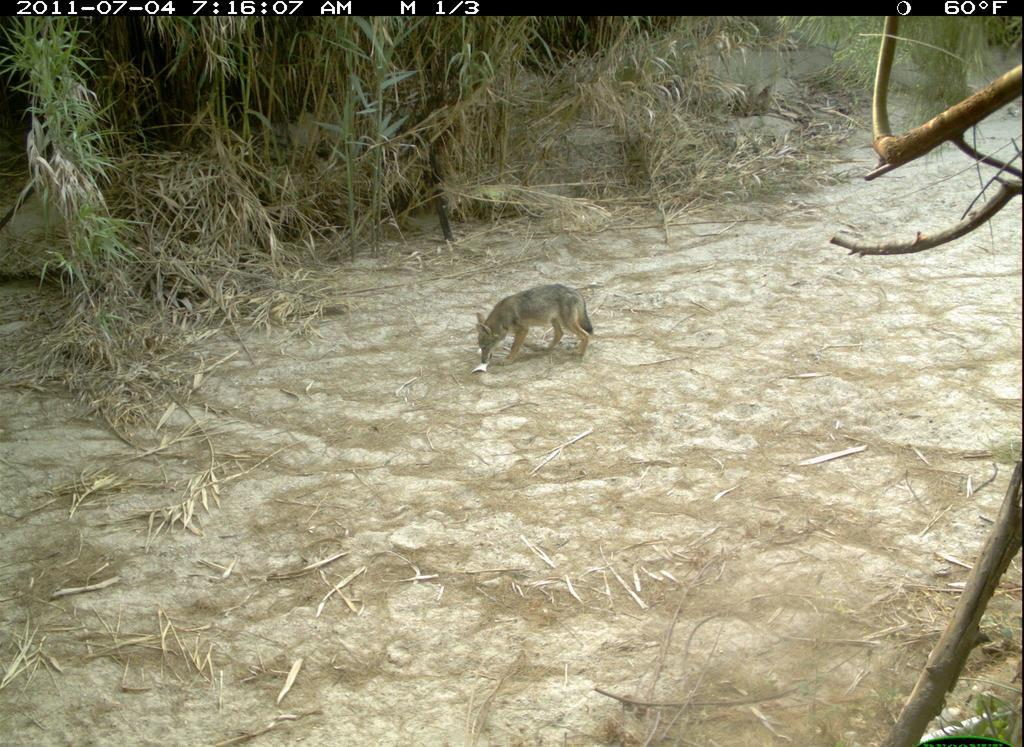coyote: (468, 277, 600, 377)
